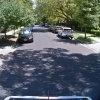Car: (50, 22, 80, 41)
